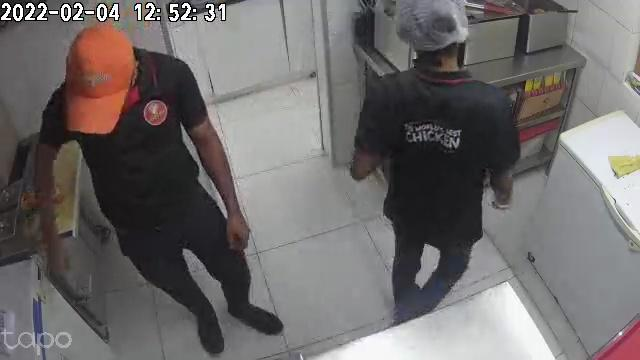no_gloves: (222, 197, 250, 252)
